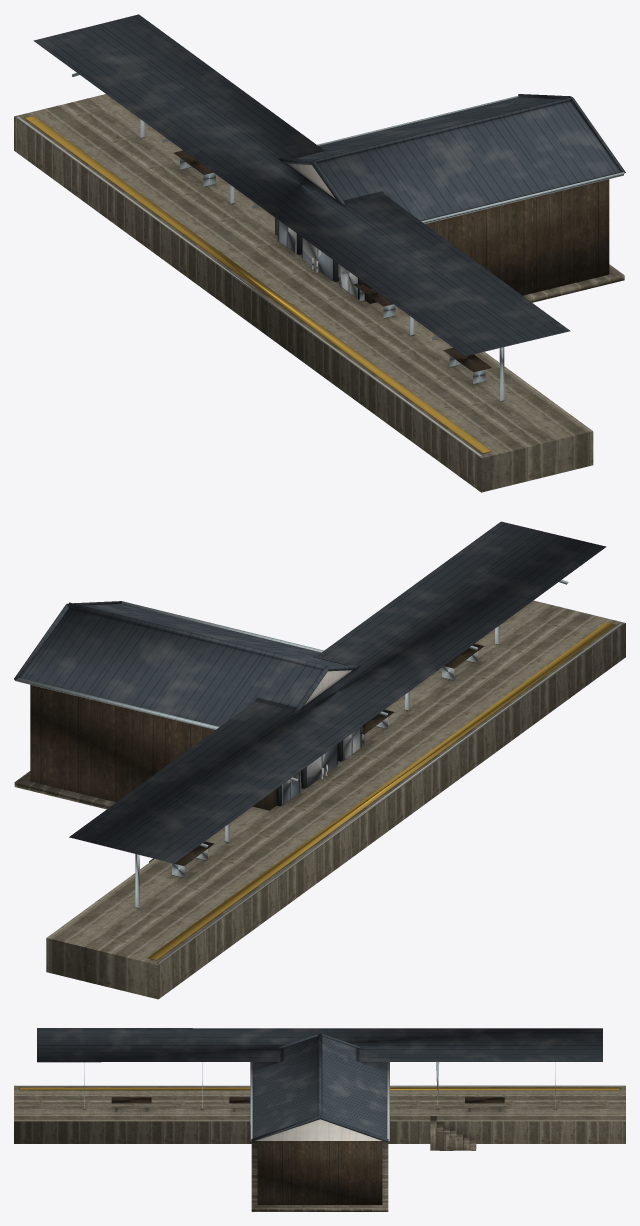
The model's file is station_001.lod1.obj.
3 views of the same model, one above another, from view 1: azimuth 30°, elevation 25°; view 2: azimuth 150°, elevation 25°; view 3: azimuth 270°, elevation 25° (orthographic). The views are drawn at different scales.
Parts seen in each view (by area): view 1: station_001; view 2: station_001; view 3: station_001.
Part boxes in pixels (x1,y1,x2,y2): station_001: (14,14,625,492); station_001: (14,521,625,999); station_001: (14,1028,625,1211).
Bounding box in the file's own units: 10.49 × 4.49 × 26.
Materials: 1 (1 with a texture image).
